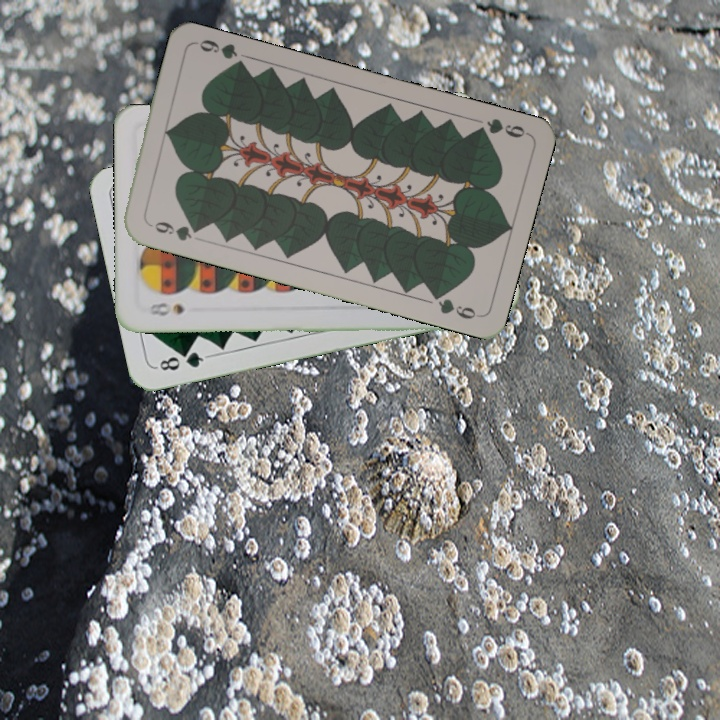G8: (152, 347, 211, 374)
G9: (469, 114, 531, 141), (143, 217, 203, 244)
S8: (145, 298, 186, 318)
